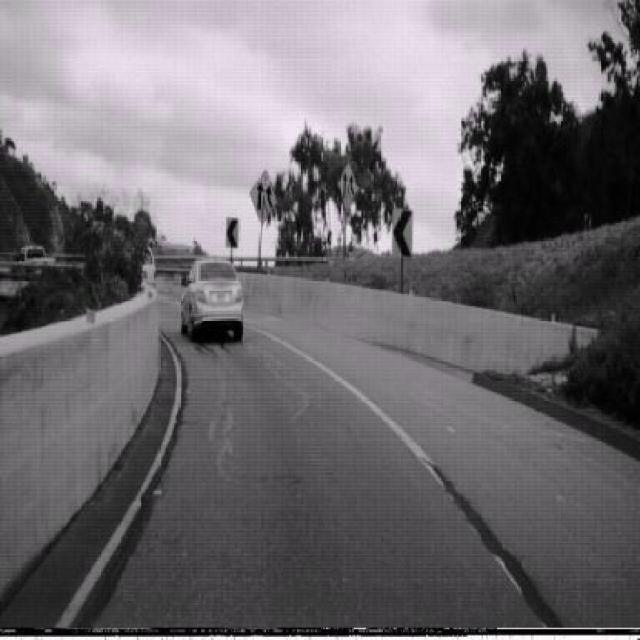addedLane: (249, 168, 278, 224), (337, 158, 358, 212)
